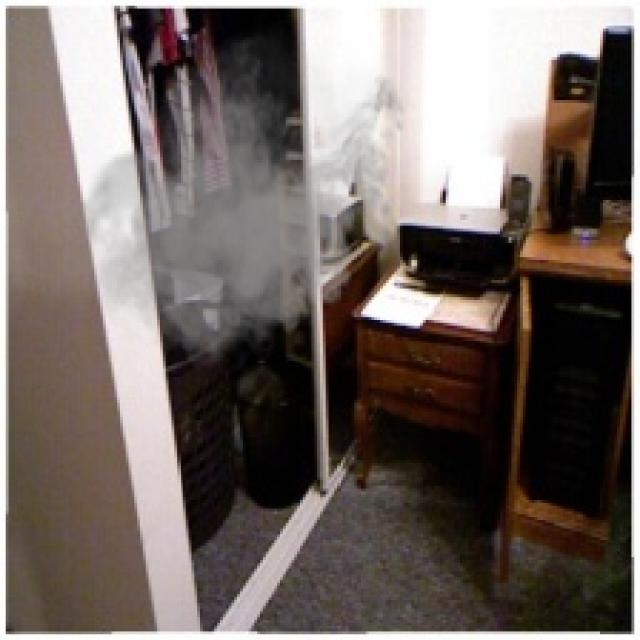smoke: (60, 14, 417, 380)
